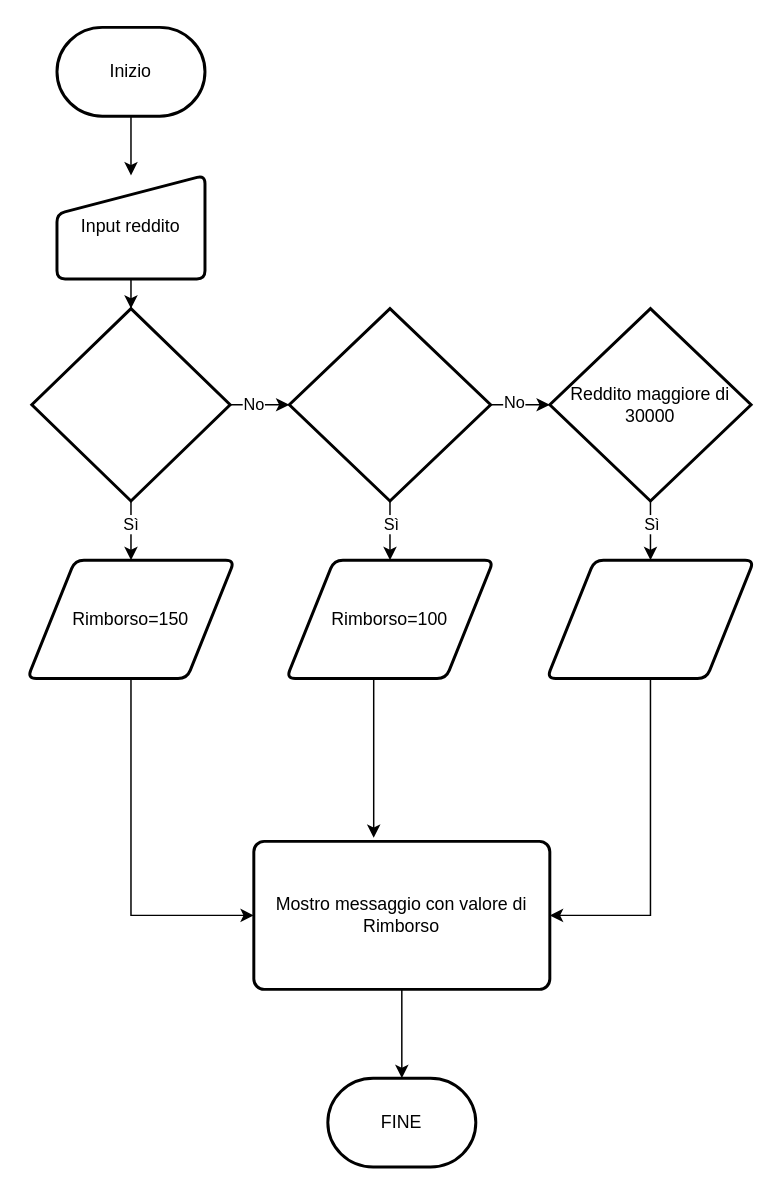
The diagram is 780 pixels wide and 1193 high, and some of its shapes have lost their labels. The shapes that lost their labels are listed below. From the top down, each one's centre as x and y in pixels, then its label:
At point (130, 404): "Reddito tra 0 e 15000".
At point (389, 404): "Reddito tra 15000 e 30000".
At point (650, 618): "Rimborso=50".
